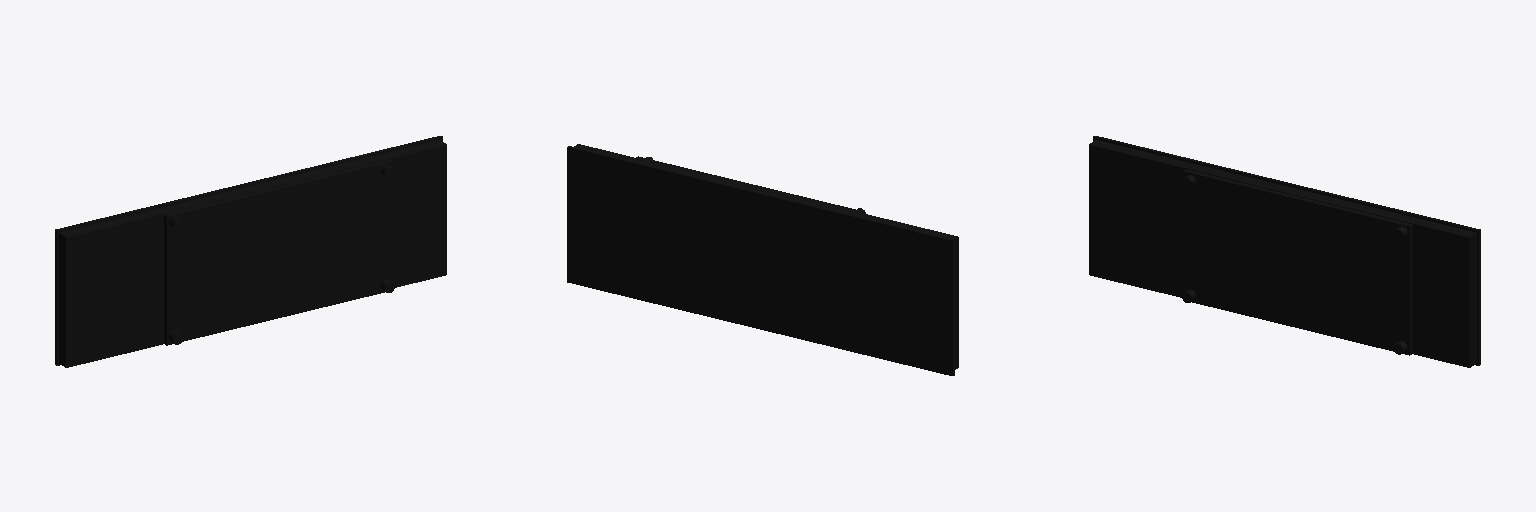
File: eye_screen.obj
3 renders of one model, left to right at view 1: azimuth 30°, elevation 25°; view 2: azimuth 150°, elevation 25°; view 3: azimuth 330°, elevation 25°, orthographic.
Size of the model in its own units: 208 by 69.8 by 14.57.